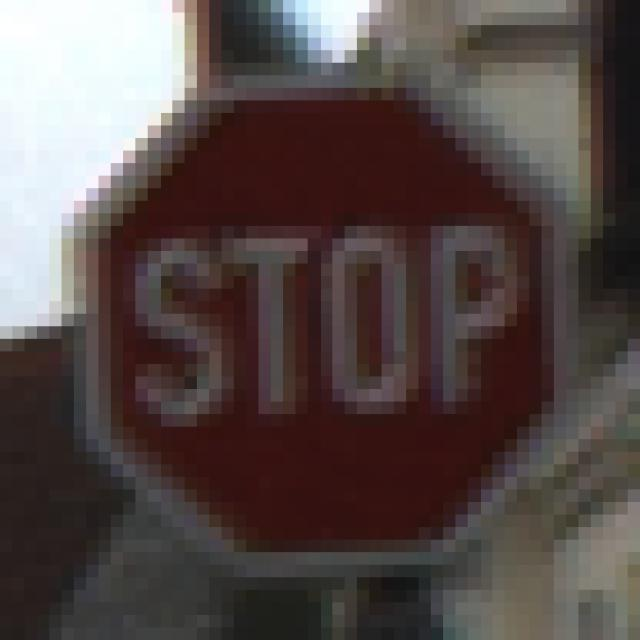STOP: (75, 64, 579, 566)
